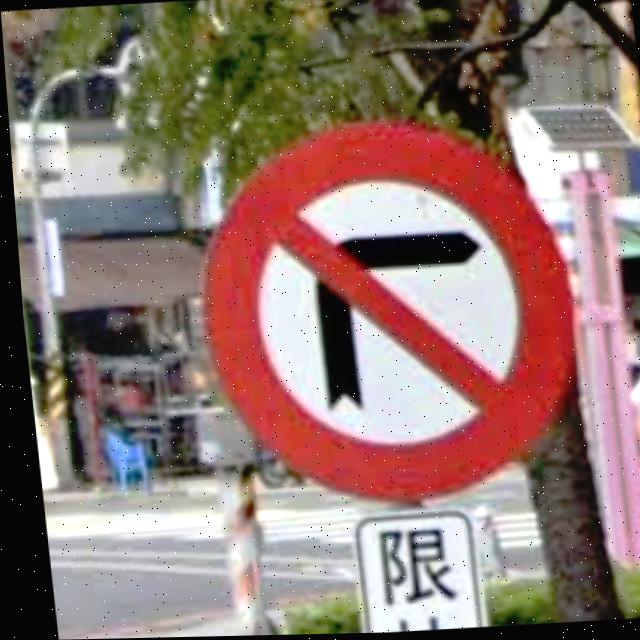noturnright: (199, 125, 569, 506)
